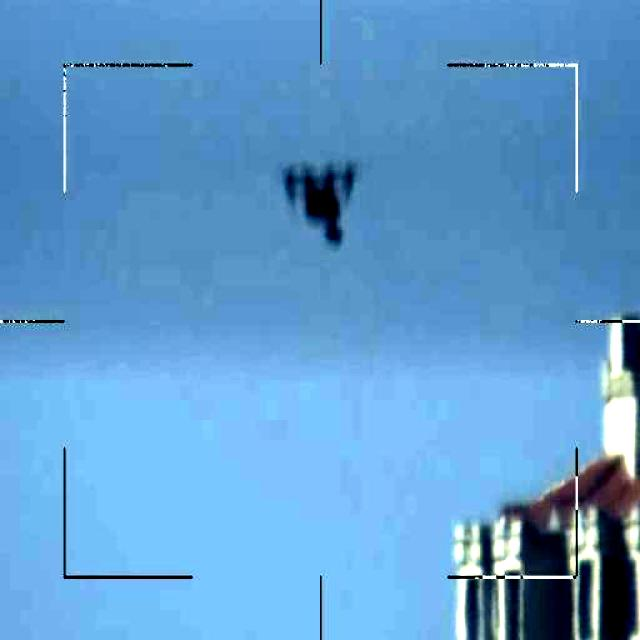bird: (281, 155, 364, 246)
